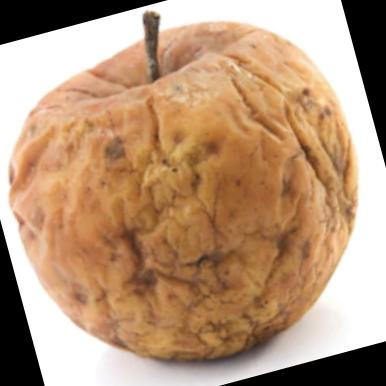Banana: (22, 31, 358, 357)
